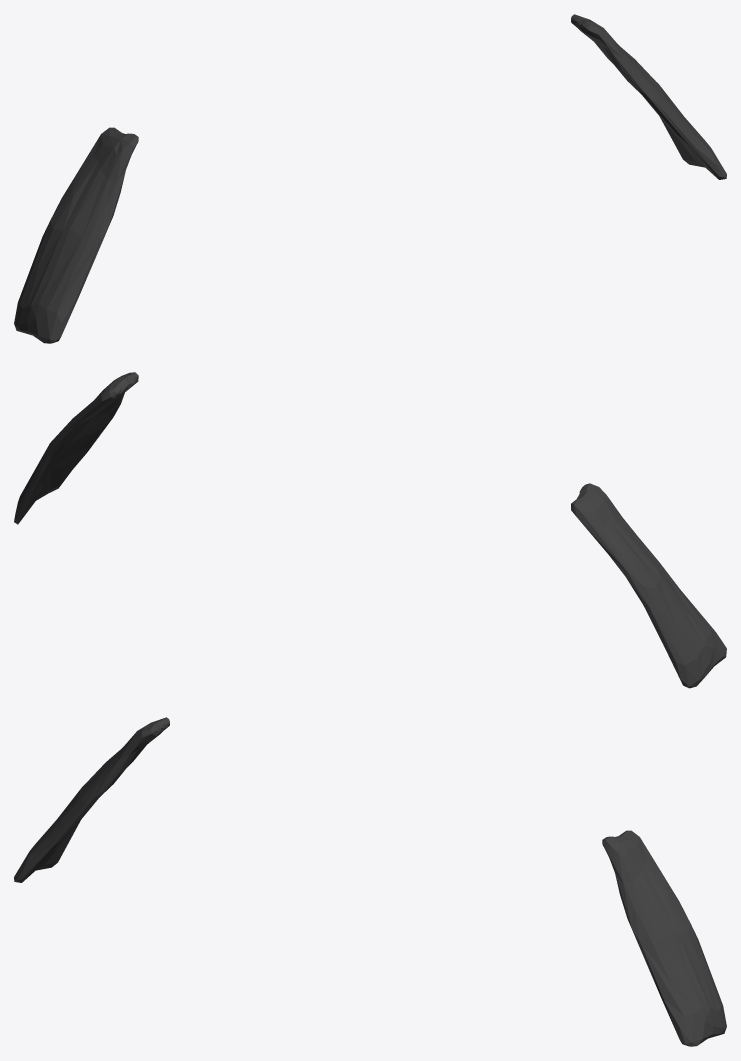
Rendered from m_frontoscutularis_temporal.glb.
3 renders of one model, top to bottom at view 1: azimuth 30°, elevation 25°; view 2: azimuth 150°, elevation 25°; view 3: azimuth 330°, elevation 25°, orthographic.
Visible parts, largest first — view 1: m_frontoscutularis_temporal; view 2: m_frontoscutularis_temporal; view 3: m_frontoscutularis_temporal.
Part boxes in pixels (box(x1,y1,x2,y2)): m_frontoscutularis_temporal: box(14, 14, 726, 343); m_frontoscutularis_temporal: box(14, 372, 726, 688); m_frontoscutularis_temporal: box(14, 717, 726, 1046).
Bounding box in the file's own units: 0.00301 × 0.000723 × 0.000388.
1 material, 1 textured.
